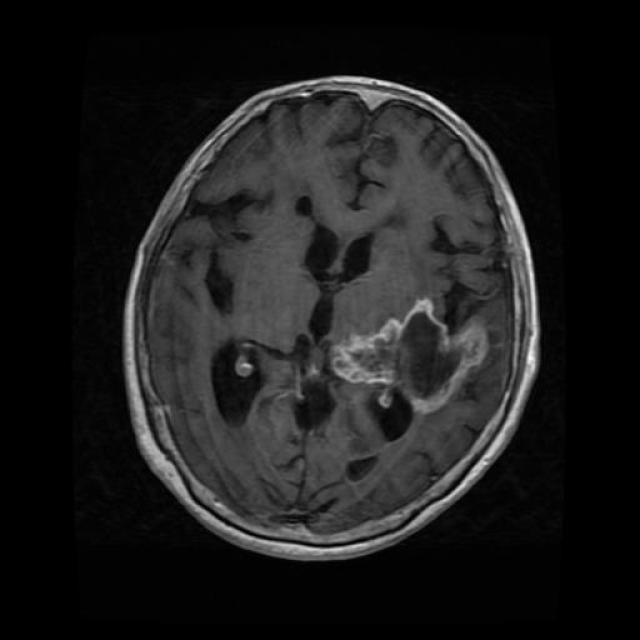glioma: (330, 294, 492, 416)
